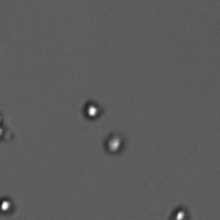Living Cell: (102, 131, 127, 156), (81, 100, 103, 124), (165, 204, 191, 220), (1, 195, 18, 216)
